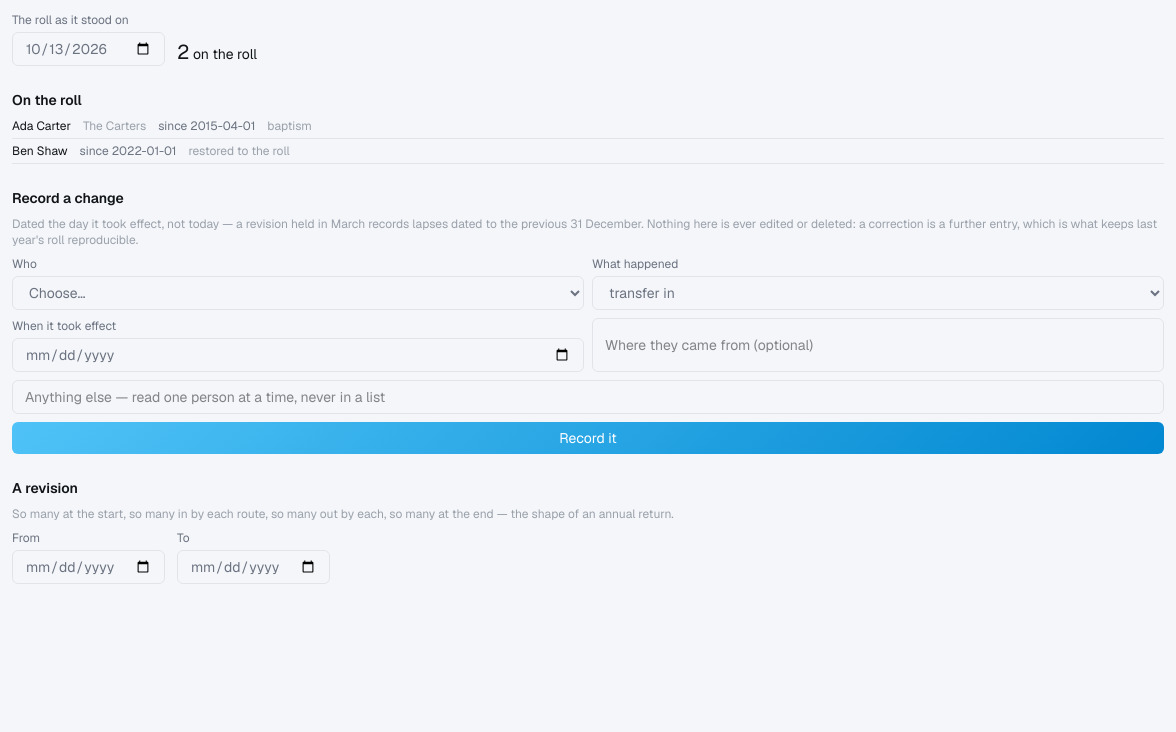
Scenario: recording a change › shows the server's refusal rather than swallowing it
Select "Nia Price" in the dropdown labelled "Who" at coordinates (298, 293), box [12,276,584,310]
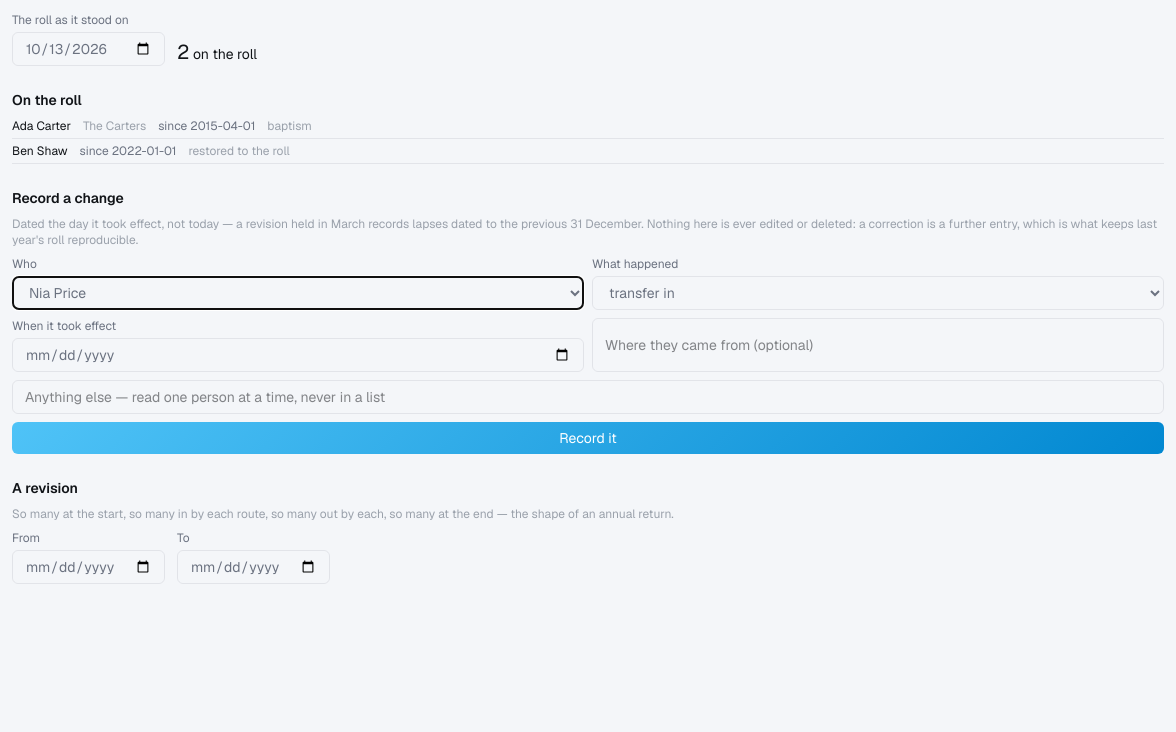
Type "2026-09-14" into the date field labelled "When it took effect" at coordinates (298, 355), box [12,338,584,372]
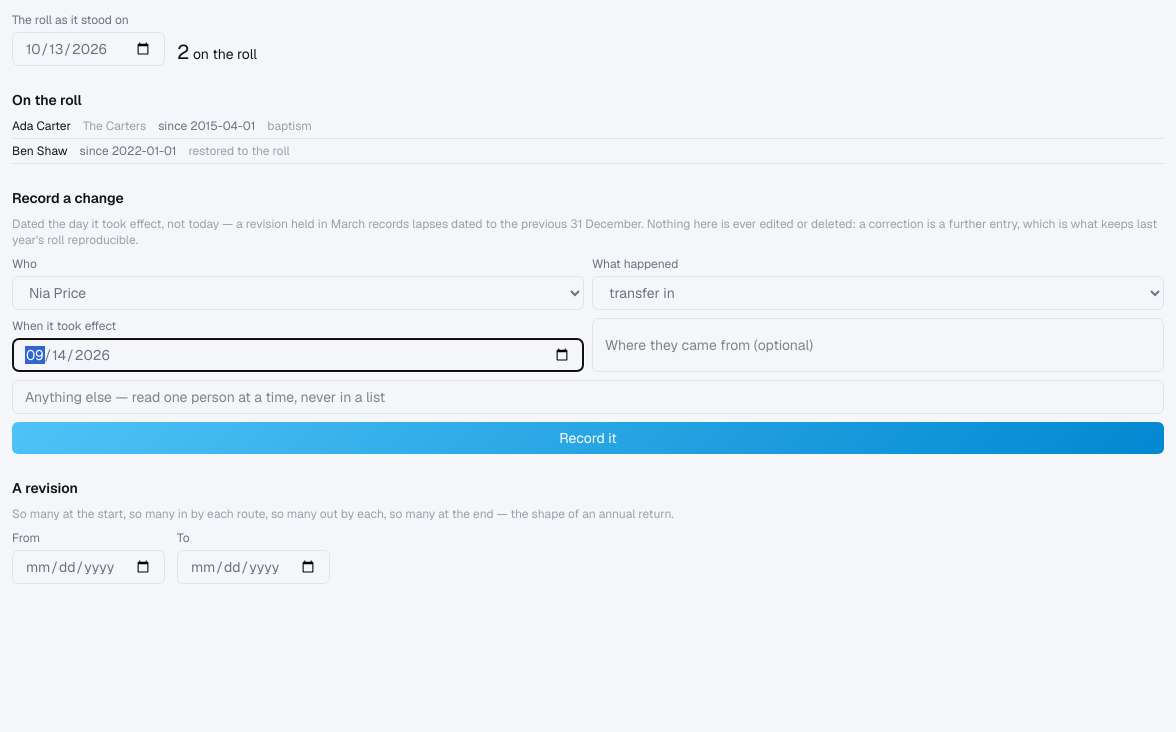
Click the button "Record it" at coordinates (588, 438), box [12,422,1164,454]
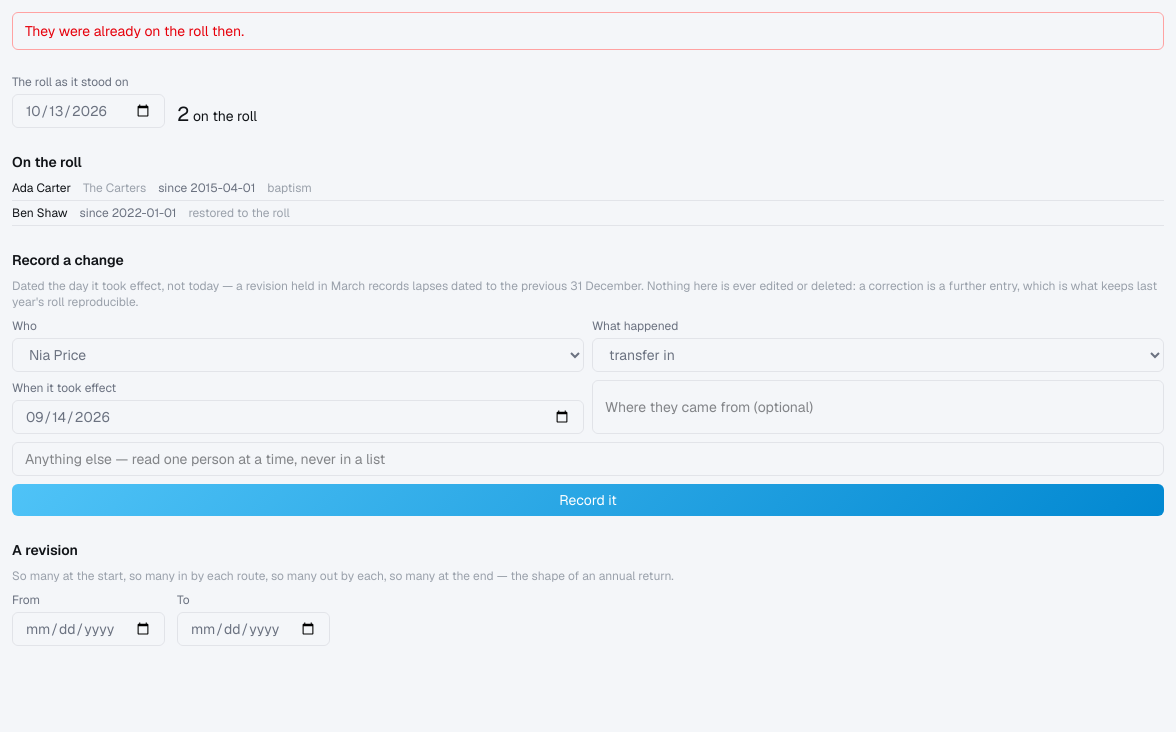
expect the message shows "already on the roll then": met, box [25,22,244,40]
